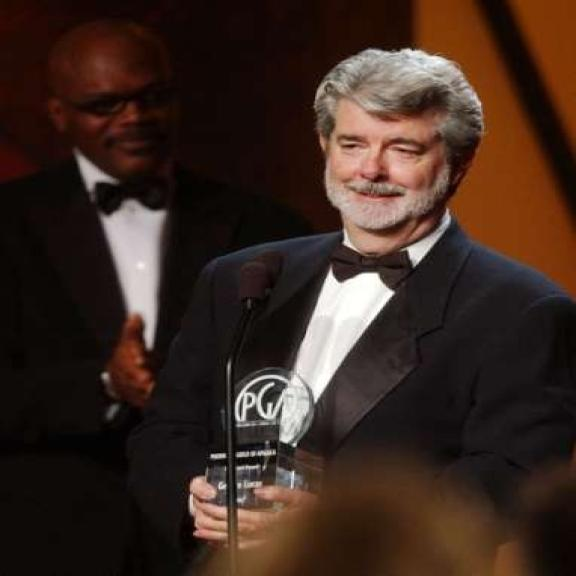face: (316, 96, 484, 224), (42, 52, 188, 184)
